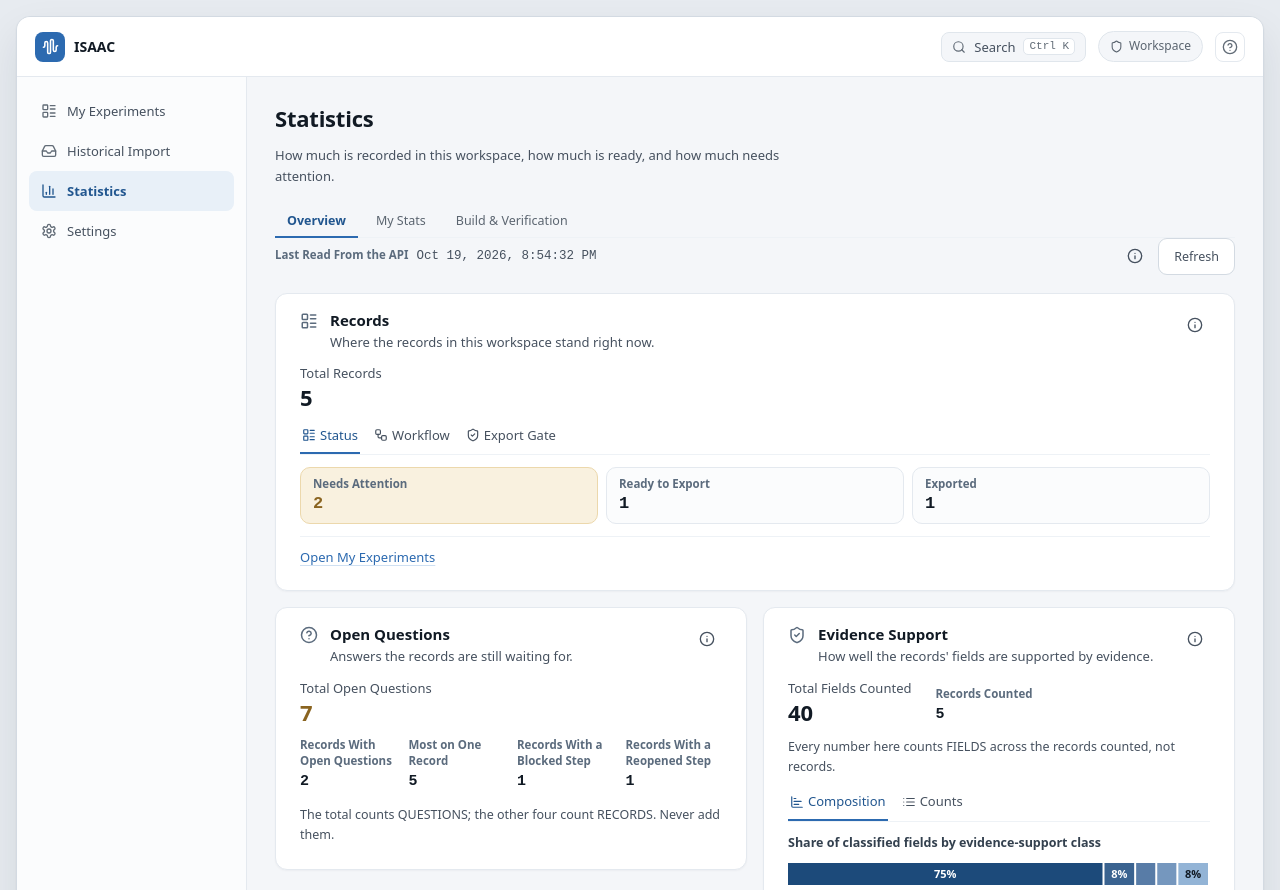
Evidence Support and the Export Gate › states that evidence support and schema validation are separate signals
Click the button named "About Evidence Support": click(1195, 639) [1180, 624, 1210, 654]
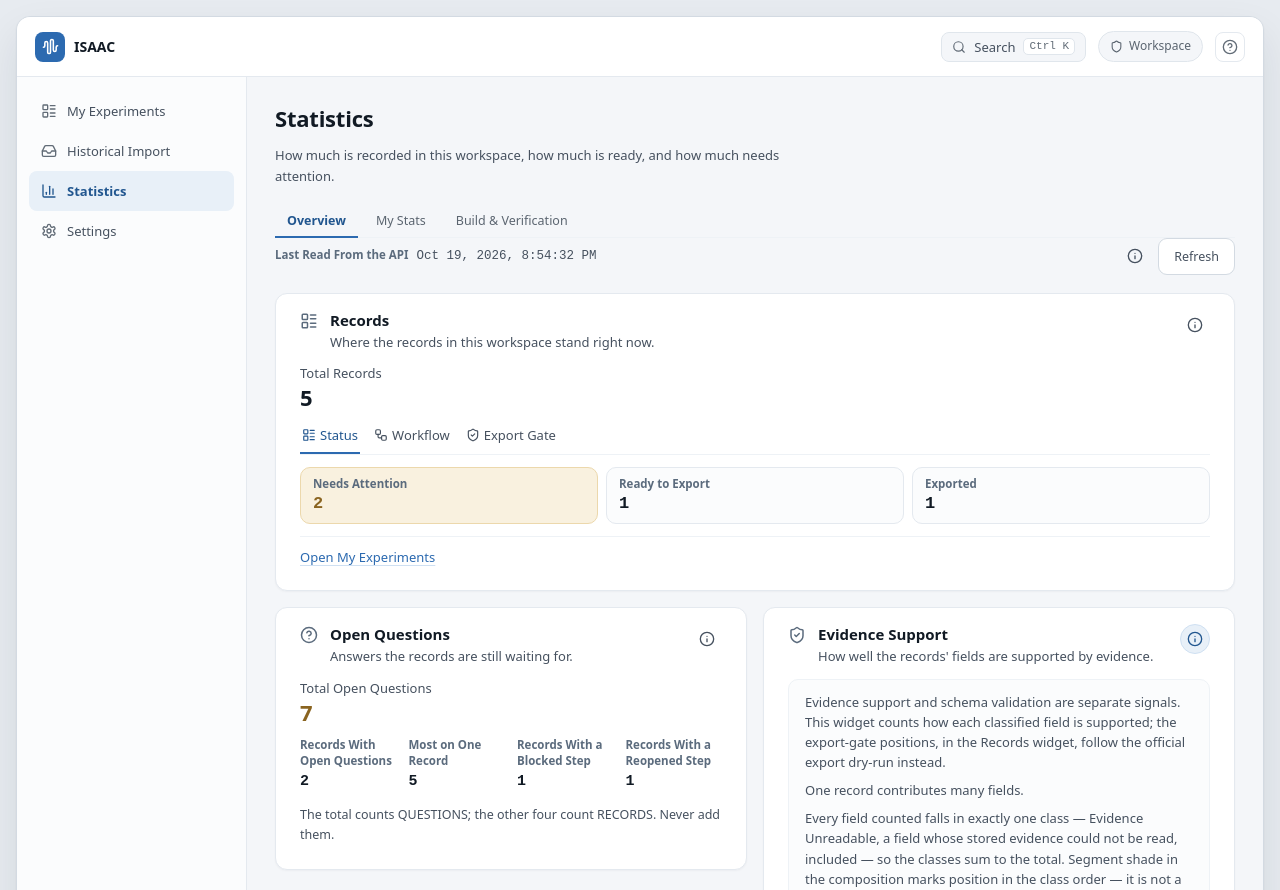
Result: the button named "About Evidence Support" is expanded at [1180, 624, 1210, 654]
Result: the text "Evidence support and schema validation are separate signals." is shown at [805, 693, 1185, 771]
